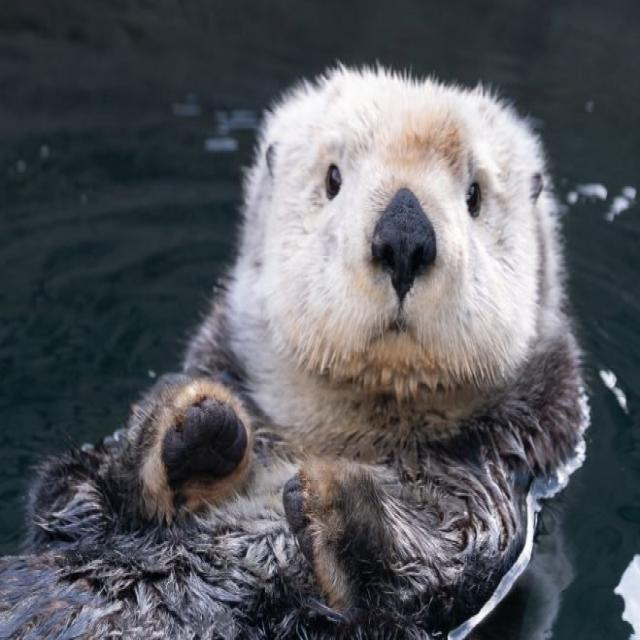Otter: (104, 56, 594, 624)
